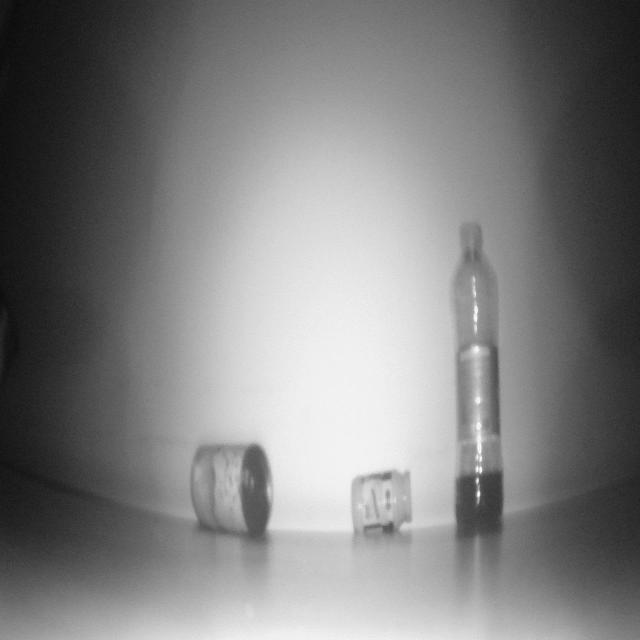targets: (449, 224, 506, 535), (188, 438, 275, 538), (349, 464, 415, 536)
